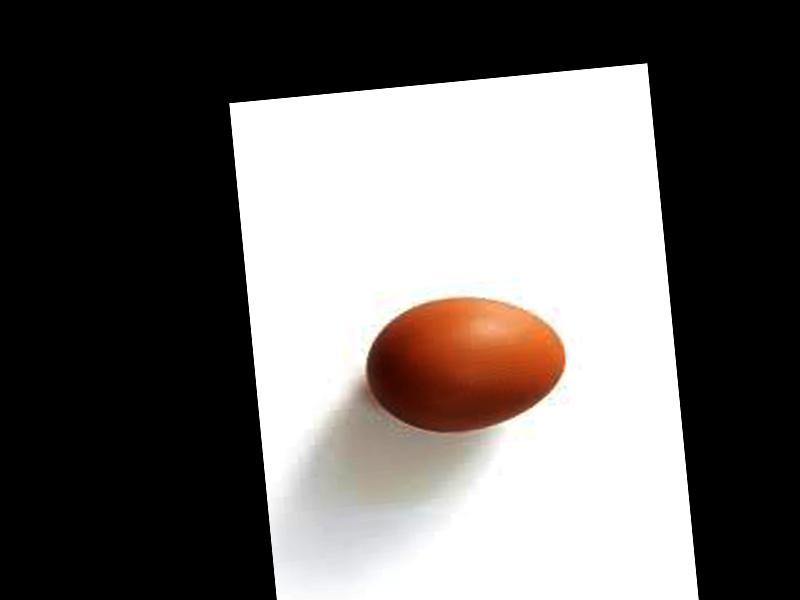Eggs: (361, 290, 572, 438)
